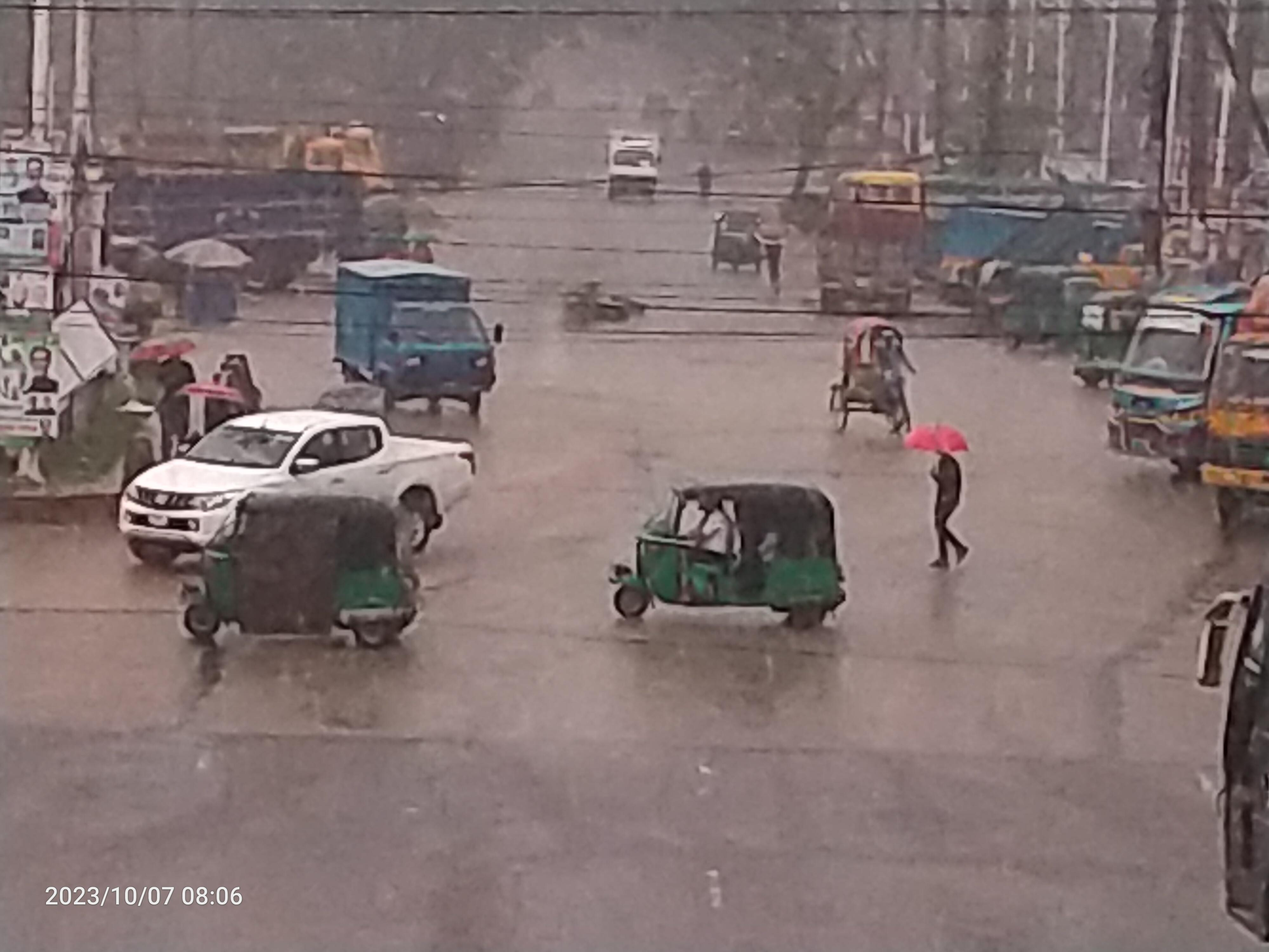Car: (76, 388, 551, 569), (810, 302, 952, 465), (589, 118, 686, 219)
Truck: (63, 102, 415, 260), (302, 243, 512, 432)
